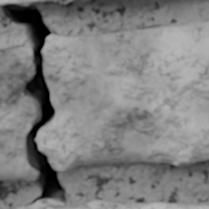brick: (19, 199, 208, 208), (0, 0, 87, 4)
broken_brick: (37, 18, 208, 171), (0, 45, 37, 181)
crack: (0, 2, 67, 206), (6, 178, 12, 180)
